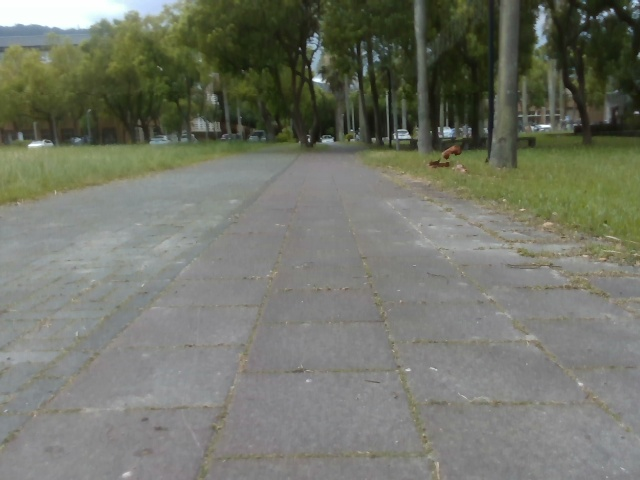grass: (0, 133, 639, 252), (0, 0, 497, 149), (520, 0, 639, 144)
road: (0, 151, 639, 479)
